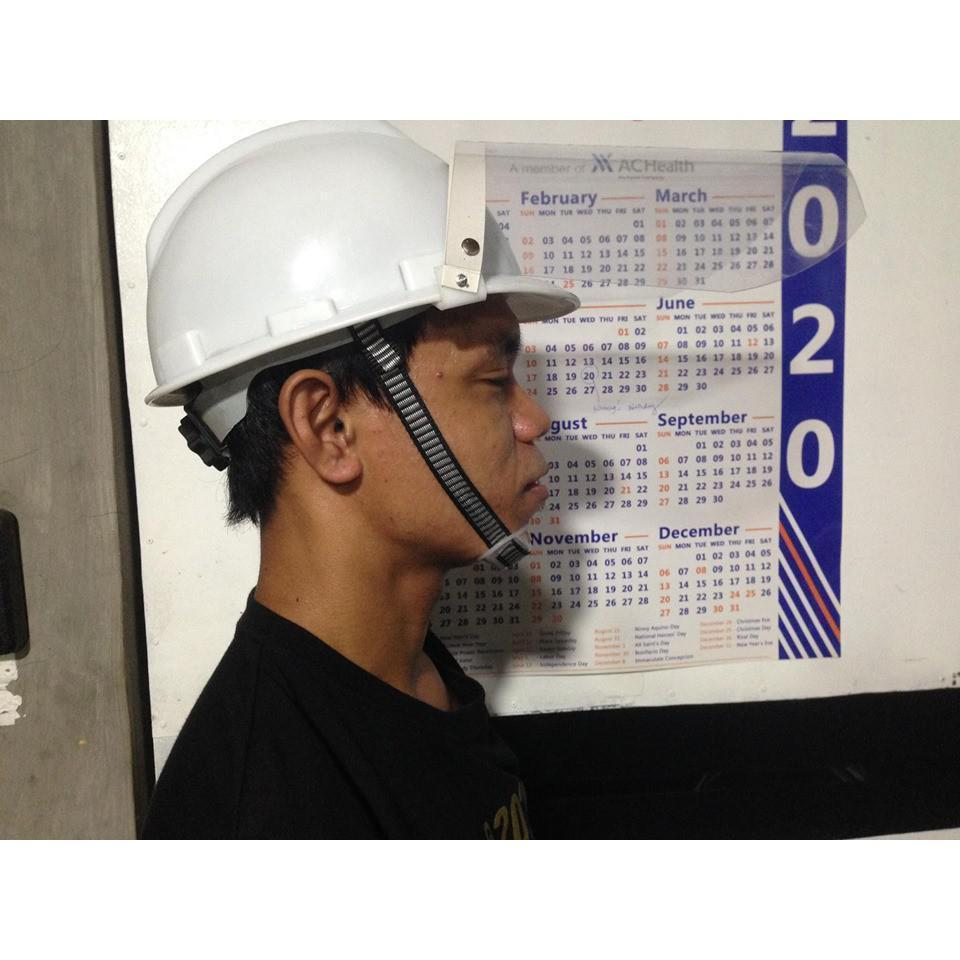helmet: (144, 118, 579, 420)
